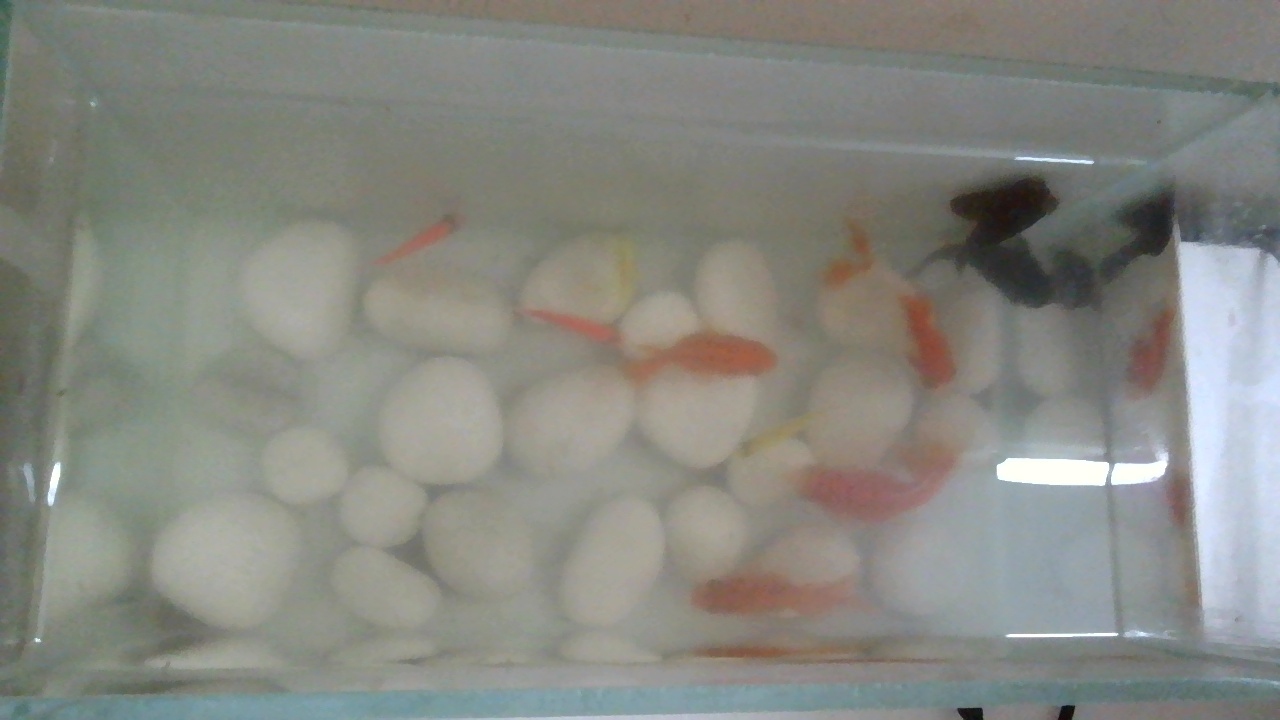fish: (615, 325, 778, 476)
